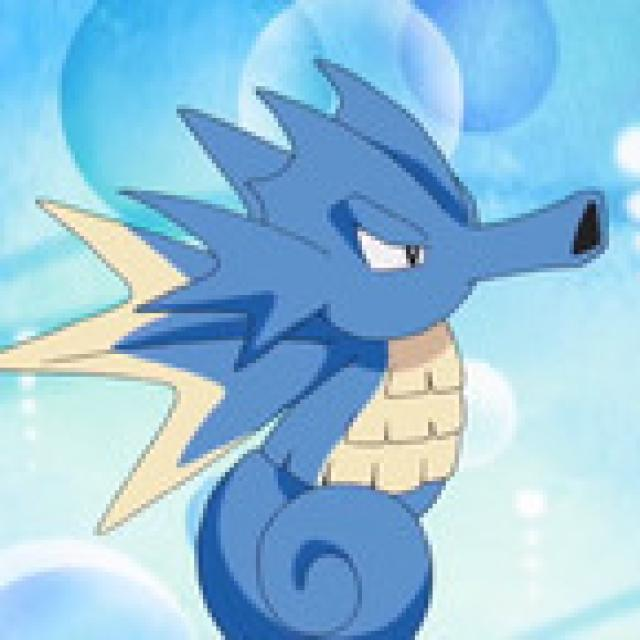Seadra: (113, 63, 606, 640)
